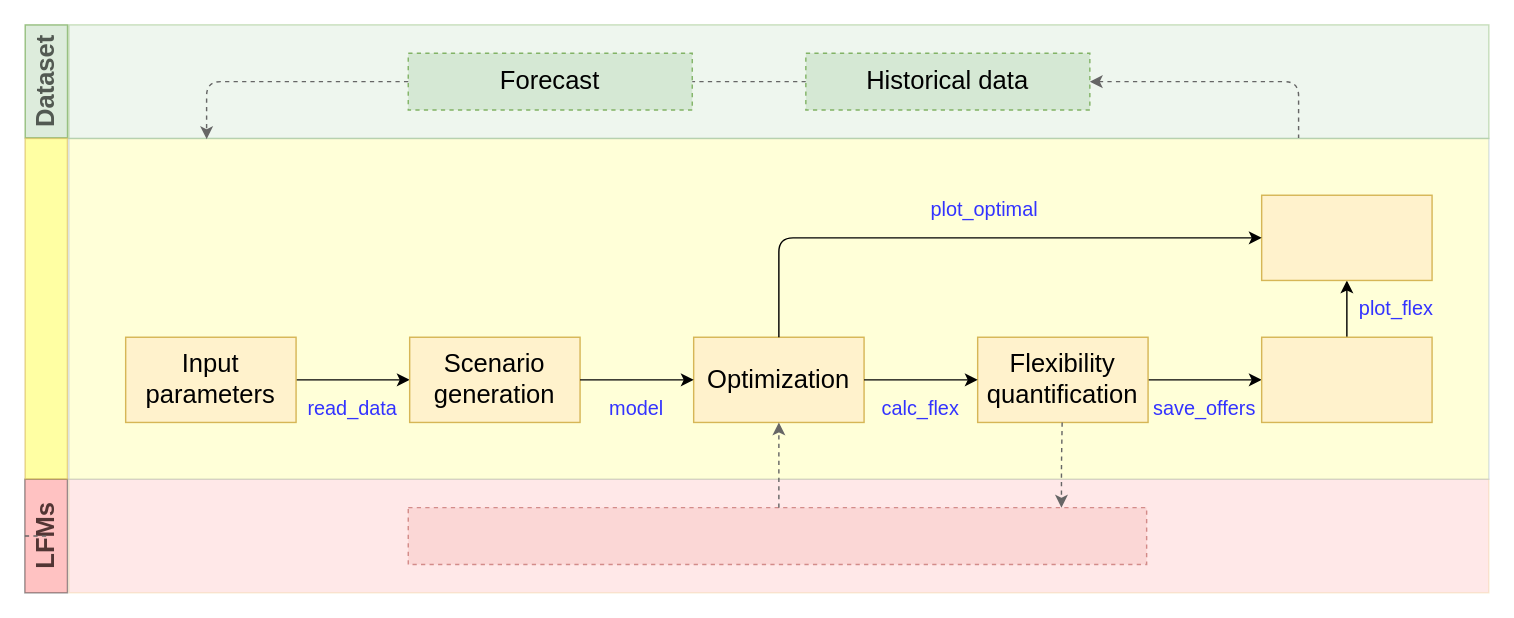
The diagram is 1514 pixels wide and 618 high, and some of its shapes have lost their labels. The centre of each missing label's shape, as x and y in pixels:
Offer selection: pixel 777 535
OpenTUMFlex: pixel 45 308
Plots: pixel 1346 237
Report: pixel 1346 379
